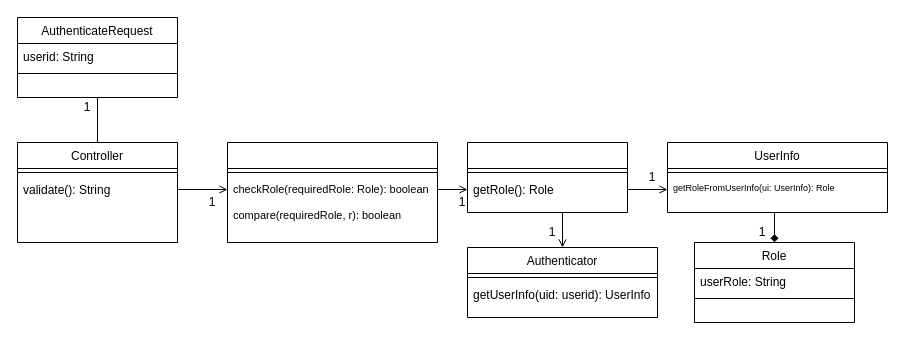
Some shapes in this 905 by 340 pixel diagram are drawn without their labels. Here are the shapes that lost their labels. From the top down, the box of each, then its label:
(226, 142, 438, 242): RoleChecker
(466, 142, 628, 212): RoleService
